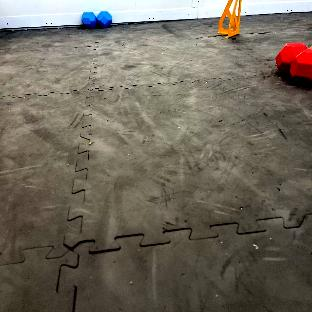V5_BLUE: (96, 12, 112, 27)
V5_RED: (276, 41, 312, 81)
